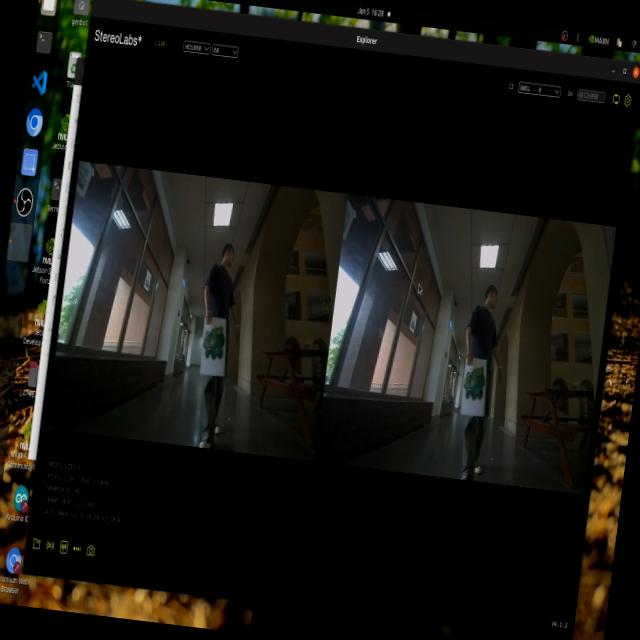green: (194, 319, 226, 362), (462, 361, 488, 407)
